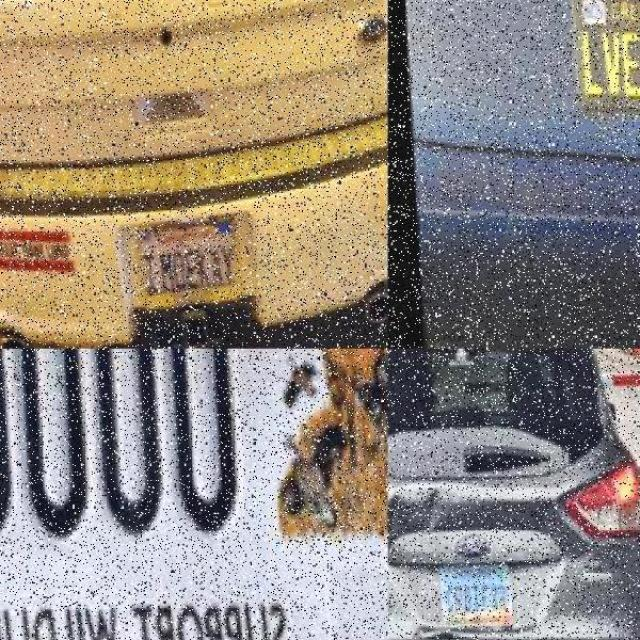license-plate: (10, 328, 338, 636)
